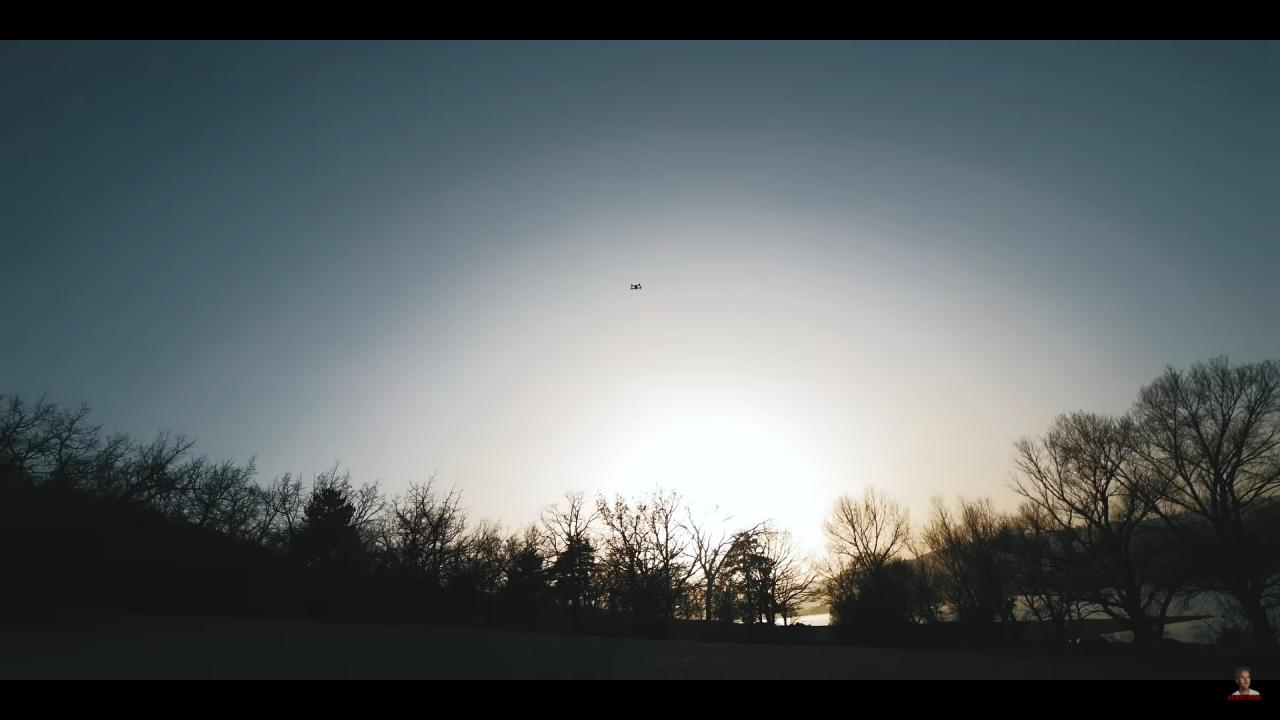Drone: (626, 280, 645, 293)
